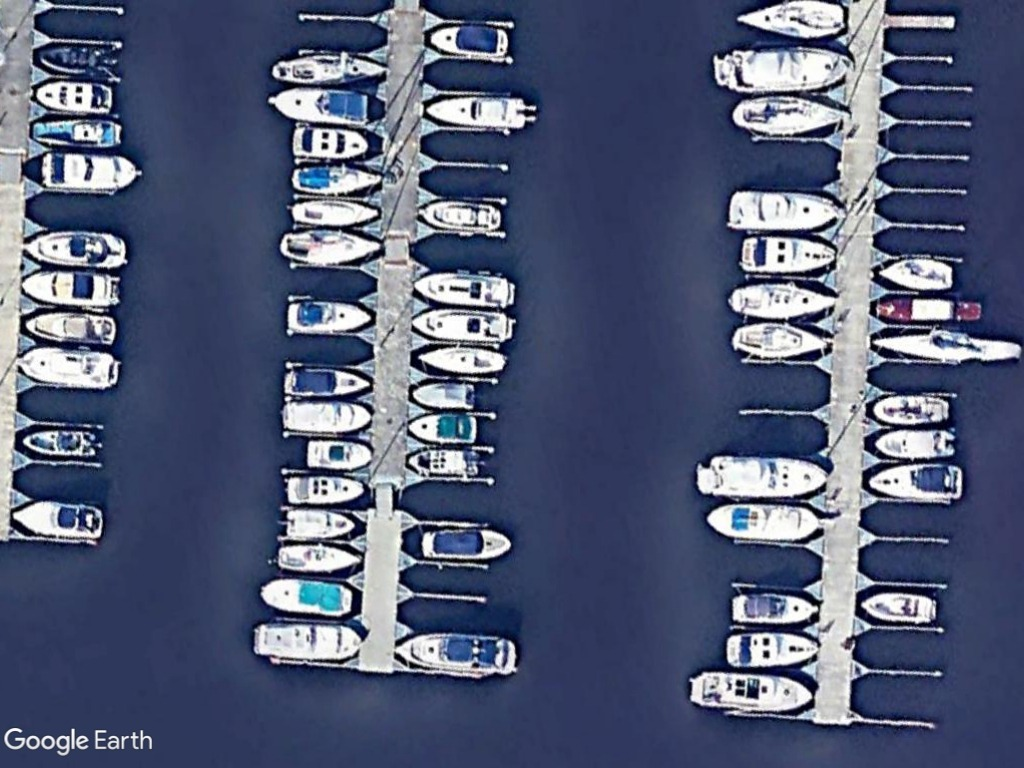boat: (390, 626, 521, 682), (723, 39, 853, 94), (867, 324, 1024, 368), (706, 449, 832, 502), (687, 669, 815, 714), (725, 186, 843, 234), (702, 501, 825, 546), (728, 92, 847, 137), (731, 0, 849, 43), (13, 341, 118, 389), (250, 617, 362, 662), (273, 224, 386, 268), (406, 300, 513, 346), (736, 232, 838, 280), (19, 150, 141, 190), (18, 228, 131, 271), (723, 281, 838, 321), (19, 265, 121, 310), (257, 573, 356, 619), (410, 266, 513, 310), (865, 460, 964, 505), (727, 319, 827, 363), (9, 497, 106, 542), (422, 90, 529, 130), (263, 86, 375, 124), (719, 630, 819, 670), (267, 50, 384, 84), (413, 338, 512, 378), (423, 18, 512, 62), (278, 363, 375, 402), (284, 194, 386, 230), (727, 588, 821, 627), (23, 309, 117, 347), (286, 118, 369, 161), (277, 399, 373, 436), (274, 538, 367, 576), (31, 78, 117, 119), (418, 525, 513, 562), (415, 195, 504, 234), (27, 114, 123, 150), (871, 424, 961, 462), (283, 299, 374, 335), (288, 163, 384, 197), (282, 469, 367, 507), (876, 254, 958, 293), (16, 424, 102, 461), (868, 390, 953, 427), (857, 589, 942, 626), (302, 434, 376, 475), (404, 442, 483, 479), (281, 508, 358, 544), (402, 410, 480, 445), (408, 376, 479, 412)
